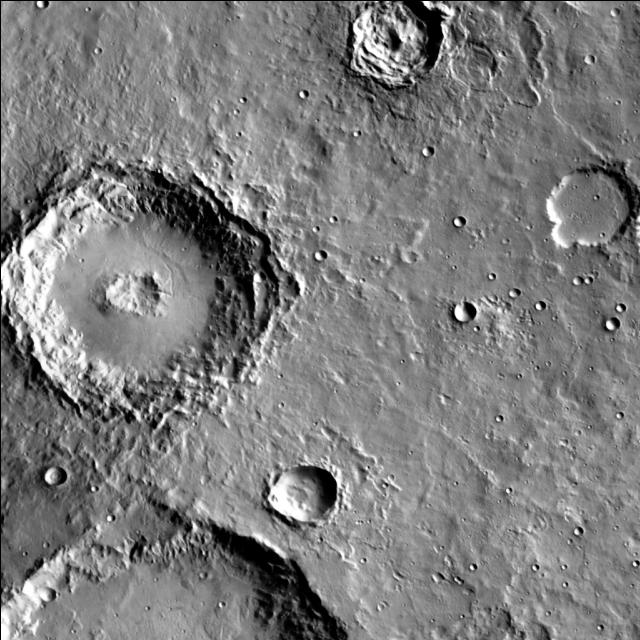crater: (0, 165, 265, 415), (352, 1, 442, 85), (546, 166, 636, 249), (268, 464, 338, 522), (550, 220, 580, 248), (44, 465, 66, 485), (454, 301, 476, 321), (39, 586, 55, 602), (605, 316, 619, 330), (402, 250, 417, 263), (198, 474, 210, 484), (298, 432, 310, 442), (314, 250, 326, 260), (453, 216, 465, 226), (253, 271, 264, 281), (408, 351, 420, 360), (499, 304, 509, 314), (214, 189, 224, 199), (126, 300, 136, 310), (376, 337, 386, 347), (378, 268, 388, 278), (439, 394, 449, 404), (534, 300, 544, 310), (572, 275, 582, 285), (298, 88, 308, 98), (616, 302, 626, 312), (509, 288, 519, 298), (609, 6, 619, 16), (432, 571, 442, 581), (584, 54, 594, 64), (422, 146, 432, 156), (36, 0, 48, 8), (76, 371, 85, 380), (573, 526, 582, 535), (128, 0, 138, 8), (471, 229, 480, 237), (106, 514, 115, 522), (480, 229, 488, 237), (496, 305, 504, 313), (443, 554, 451, 562), (224, 200, 232, 208), (392, 570, 400, 578), (90, 484, 98, 492), (198, 570, 206, 578), (489, 294, 497, 302), (484, 431, 492, 439), (584, 276, 592, 284), (495, 414, 503, 422), (559, 438, 567, 446), (93, 46, 101, 54), (328, 215, 336, 223), (501, 300, 509, 307), (468, 563, 476, 570), (615, 411, 623, 418), (531, 563, 538, 570), (386, 473, 393, 480), (312, 225, 319, 232), (480, 294, 488, 300), (319, 455, 327, 461), (602, 162, 610, 168), (496, 50, 504, 56), (238, 96, 246, 102), (352, 130, 360, 136), (95, 36, 102, 42), (118, 64, 125, 70), (569, 450, 575, 457), (366, 255, 373, 261), (453, 576, 460, 582), (503, 307, 510, 313), (42, 542, 49, 548), (376, 603, 383, 609), (218, 601, 225, 607), (593, 193, 599, 200), (632, 560, 639, 566), (488, 272, 495, 278), (556, 264, 562, 270), (531, 283, 537, 289), (564, 508, 570, 514), (630, 330, 636, 336), (446, 560, 452, 566), (589, 442, 595, 448), (12, 81, 18, 87), (116, 72, 122, 78), (604, 498, 610, 504), (457, 578, 463, 584), (281, 73, 287, 79), (382, 601, 388, 607), (174, 78, 180, 84), (316, 371, 322, 377), (592, 270, 598, 276), (524, 308, 530, 314), (356, 518, 362, 524), (530, 158, 536, 164), (528, 320, 534, 326), (438, 248, 444, 254), (569, 445, 575, 451), (327, 444, 333, 450), (516, 316, 522, 322), (394, 584, 400, 590), (544, 360, 550, 366), (621, 138, 627, 144), (502, 237, 508, 243), (528, 332, 534, 338), (468, 242, 474, 248), (596, 624, 602, 630), (235, 130, 241, 136), (84, 6, 90, 12), (504, 250, 510, 256), (514, 216, 520, 222), (473, 325, 479, 331), (560, 563, 566, 569), (562, 580, 568, 586), (358, 276, 364, 282), (382, 482, 388, 488), (574, 429, 580, 435), (278, 402, 284, 408), (360, 556, 366, 562), (232, 108, 238, 114), (526, 223, 532, 229), (244, 150, 250, 156), (170, 95, 175, 102), (461, 342, 466, 348), (516, 630, 522, 635), (511, 130, 517, 135), (588, 123, 594, 128), (270, 193, 276, 198), (40, 602, 45, 608), (519, 308, 525, 313), (189, 25, 195, 30), (457, 434, 462, 440), (462, 439, 468, 444), (586, 445, 592, 450), (498, 372, 503, 378), (22, 550, 27, 556), (543, 92, 548, 98), (518, 329, 524, 334), (623, 540, 628, 546), (544, 610, 550, 615), (387, 558, 392, 564), (374, 254, 379, 260), (622, 128, 628, 133), (317, 536, 322, 542), (573, 156, 578, 162), (516, 373, 522, 378), (566, 538, 572, 543), (505, 487, 511, 492), (297, 103, 302, 108), (377, 397, 382, 402), (70, 628, 75, 633), (538, 572, 543, 577), (578, 509, 583, 514), (277, 373, 282, 378), (0, 381, 4, 387), (566, 252, 572, 256), (524, 442, 528, 448), (544, 28, 550, 32), (528, 285, 534, 289), (442, 337, 448, 341), (434, 302, 440, 306), (528, 254, 534, 258), (232, 0, 238, 4), (460, 296, 466, 300), (8, 182, 14, 186), (16, 422, 22, 426), (26, 198, 32, 202), (156, 168, 162, 172), (594, 592, 600, 596), (568, 454, 574, 458), (58, 59, 64, 63), (408, 561, 414, 565), (572, 480, 576, 486), (614, 100, 620, 104), (552, 314, 556, 320), (192, 420, 196, 426), (598, 232, 604, 236), (634, 332, 638, 337), (6, 372, 10, 377), (534, 258, 538, 263), (450, 287, 454, 292), (473, 598, 478, 602), (314, 316, 318, 321), (22, 451, 27, 455), (78, 258, 83, 262), (568, 252, 573, 256), (392, 222, 397, 226), (144, 605, 148, 610), (572, 22, 576, 27), (366, 518, 371, 522), (482, 470, 487, 474), (155, 80, 160, 84), (426, 502, 430, 507), (386, 528, 391, 532), (346, 244, 351, 248), (399, 358, 404, 362), (212, 162, 217, 166), (562, 370, 566, 375), (613, 525, 618, 529), (429, 618, 434, 622), (448, 304, 452, 308), (569, 233, 573, 237), (564, 516, 568, 520), (547, 61, 551, 65), (552, 411, 556, 415), (342, 622, 346, 626), (524, 251, 528, 255), (153, 577, 157, 581), (578, 68, 582, 72), (558, 361, 562, 365), (469, 428, 473, 432), (561, 276, 565, 280), (180, 628, 184, 632), (528, 73, 532, 77), (112, 612, 116, 616), (622, 516, 626, 520), (18, 36, 22, 40), (498, 330, 502, 334), (520, 182, 524, 186), (477, 342, 481, 346), (563, 252, 567, 256), (570, 232, 574, 236), (554, 152, 558, 156), (55, 592, 59, 596), (590, 392, 594, 396), (620, 565, 624, 569), (258, 445, 262, 449), (588, 444, 592, 448), (494, 86, 498, 90), (592, 528, 596, 532), (573, 628, 577, 632), (459, 538, 463, 542), (451, 251, 455, 255), (545, 250, 549, 254), (440, 215, 444, 219), (382, 562, 386, 566), (514, 456, 518, 460), (590, 80, 594, 84), (538, 320, 542, 324), (468, 10, 472, 14), (235, 68, 239, 72), (333, 388, 337, 392), (572, 185, 576, 189), (276, 38, 280, 42), (615, 505, 619, 509), (619, 2, 623, 6), (525, 366, 529, 370), (352, 509, 356, 513), (364, 465, 368, 469), (584, 172, 588, 176), (469, 188, 473, 192), (382, 492, 386, 496), (607, 262, 611, 266), (490, 614, 494, 618), (523, 479, 527, 483), (544, 258, 548, 262), (135, 529, 139, 533), (632, 100, 636, 104), (529, 359, 533, 363), (616, 133, 620, 137), (445, 254, 449, 258), (354, 381, 358, 385), (506, 528, 510, 532), (576, 545, 580, 549), (584, 560, 588, 564), (511, 402, 515, 406), (526, 462, 530, 466), (567, 322, 571, 326), (518, 597, 522, 601), (502, 602, 506, 606), (110, 41, 114, 45), (577, 345, 581, 349), (588, 366, 592, 370), (395, 381, 399, 385), (461, 517, 465, 521), (564, 406, 568, 410), (312, 421, 316, 425), (408, 450, 412, 454), (247, 50, 251, 54), (558, 530, 562, 534), (490, 314, 494, 318), (212, 42, 216, 46), (534, 365, 538, 369), (632, 552, 636, 556), (605, 95, 609, 99), (587, 424, 591, 428), (594, 475, 598, 479), (496, 498, 500, 502), (453, 480, 457, 484), (629, 582, 633, 586), (610, 337, 614, 341), (452, 264, 456, 268), (542, 238, 546, 242), (582, 462, 586, 466), (439, 544, 443, 548), (594, 310, 598, 314), (459, 614, 463, 618), (112, 99, 117, 102), (637, 333, 640, 338), (613, 443, 616, 448), (463, 637, 468, 640), (88, 105, 93, 108), (638, 246, 640, 253), (467, 534, 471, 537), (368, 195, 372, 198), (637, 394, 640, 398), (502, 362, 506, 365), (616, 456, 620, 459), (624, 422, 627, 426), (488, 360, 492, 363), (527, 114, 530, 118), (633, 109, 637, 112), (314, 118, 318, 121), (214, 99, 218, 102), (607, 396, 610, 399), (638, 20, 640, 24), (427, 416, 431, 418), (458, 230, 462, 232), (638, 515, 640, 519), (638, 92, 640, 96), (638, 438, 640, 442)
